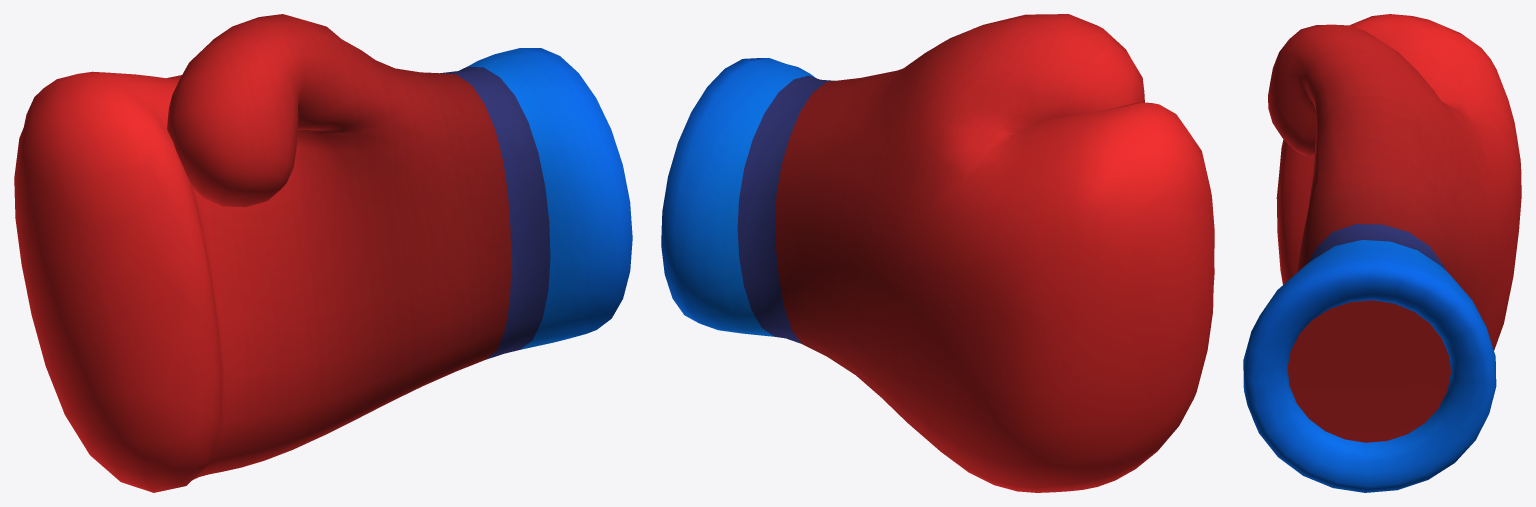
Rendered from Glove_Main_Reexported.fbx.
3 views of the same model, side by side, from view 1: azimuth 30°, elevation 25°; view 2: azimuth 150°, elevation 25°; view 3: azimuth 270°, elevation 25° (orthographic). The views are drawn at different scales.
Parts seen in each view (by area): view 1: CMain_Gloves; view 2: CMain_Gloves; view 3: CMain_Gloves.
Part boxes in pixels (x1,y1,x2,y2): CMain_Gloves: (14, 14, 632, 492); CMain_Gloves: (661, 14, 1214, 492); CMain_Gloves: (1243, 14, 1521, 492).
Bounding box in the file's own units: 23.62 × 19.89 × 12.64.
